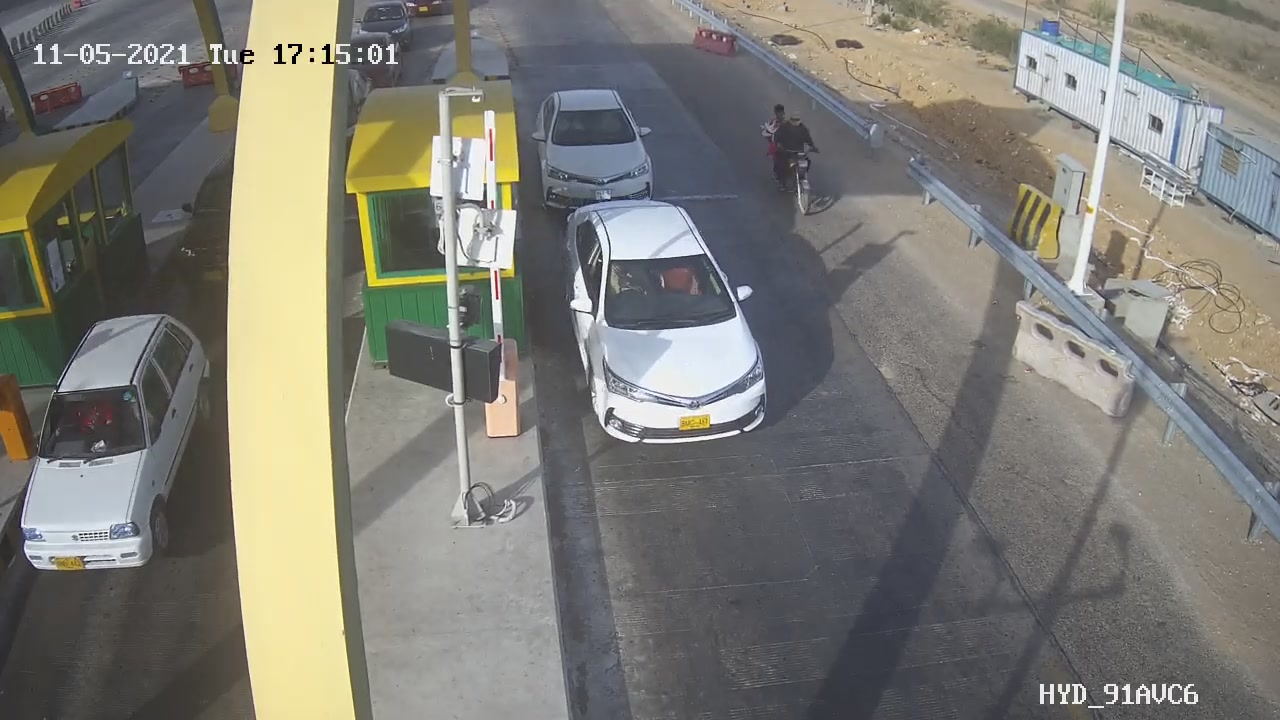F1: (544, 187, 792, 453), (521, 75, 670, 230)
